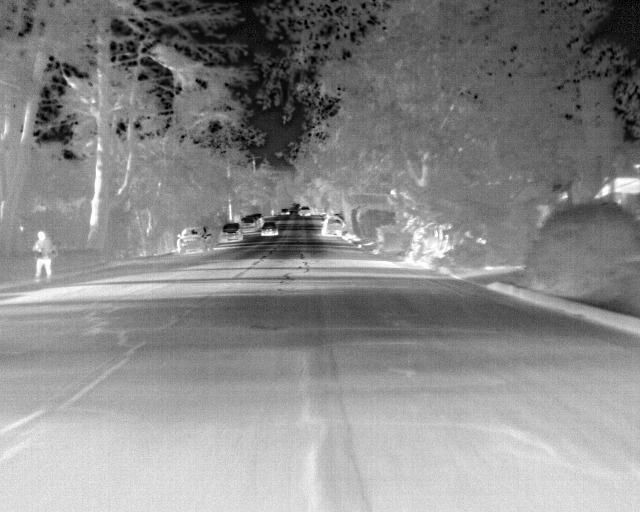vehicle: (176, 224, 210, 257), (320, 214, 347, 238), (220, 220, 243, 245), (260, 219, 283, 238)
